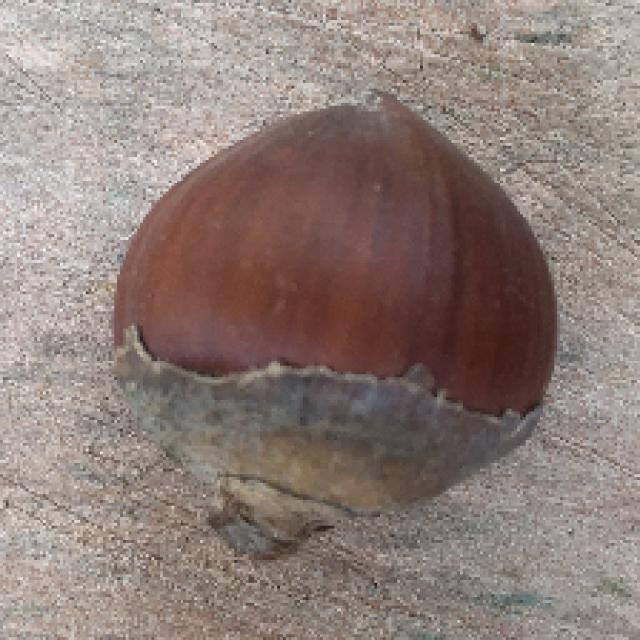damagedHazelnut: (108, 95, 561, 566)
